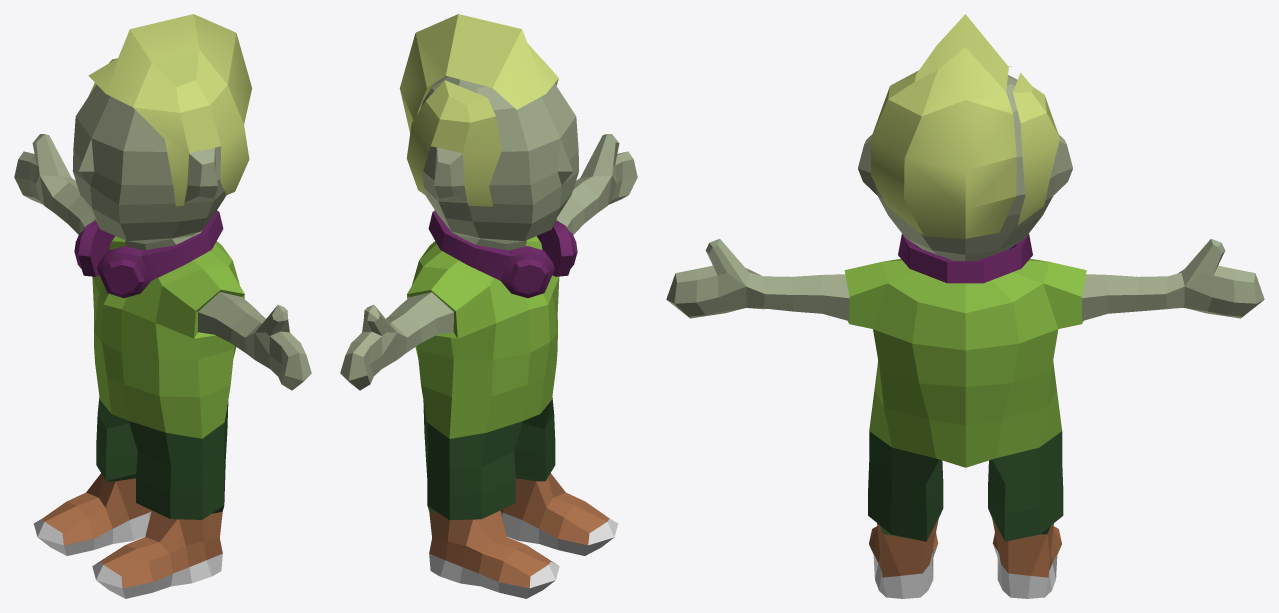
The model's file is LilBoy.fbx.
3 renders of one model, left to right at view 1: azimuth 30°, elevation 25°; view 2: azimuth 150°, elevation 25°; view 3: azimuth 270°, elevation 25°, orthographic. The views are drawn at different scales.
Parts seen in each view (by area): view 1: polySurface44, polySurface39, headphones; view 2: polySurface44, polySurface39, headphones; view 3: polySurface44, polySurface39, headphones.
Boxes of the visible parts, x1,y1,x2,y2 form: polySurface44: (14,84,311,598); polySurface39: (88,14,252,206); headphones: (74,210,223,298); polySurface44: (340,76,637,598); polySurface39: (399,14,558,206); headphones: (428,210,577,298); polySurface44: (666,75,1264,598); polySurface39: (871,14,1059,238); headphones: (898,234,1032,283).
Bounding box in the file's own units: 1.87 × 5.08 × 4.95.
